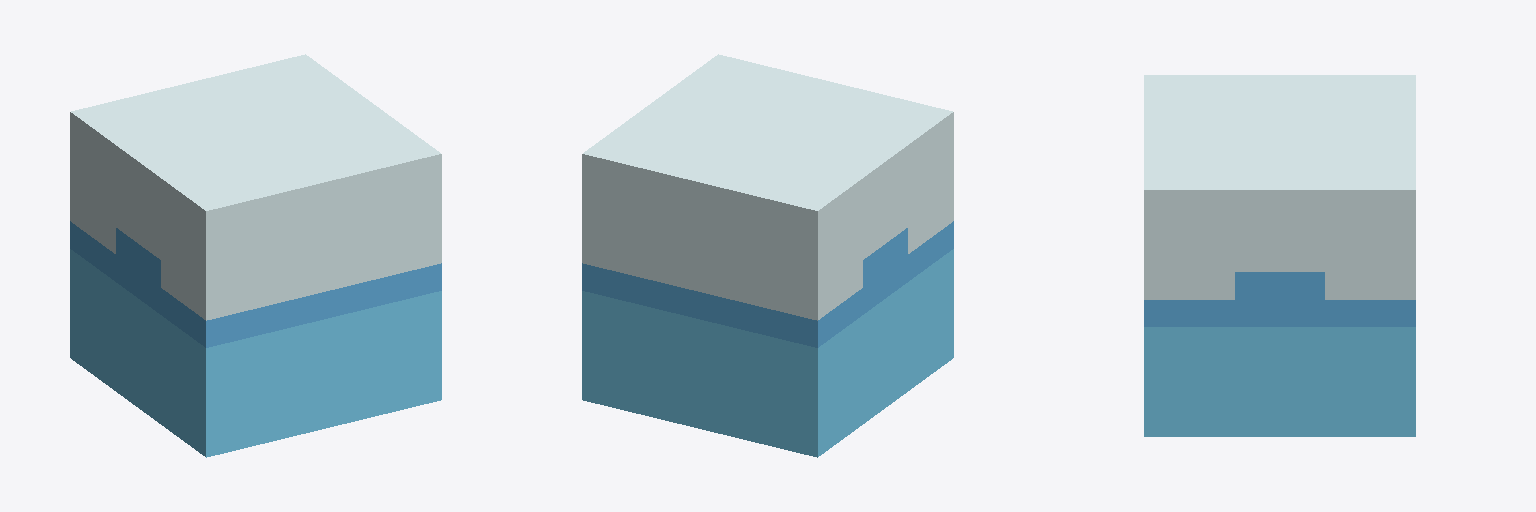
3 views of the same model, side by side, from view 1: azimuth 30°, elevation 25°; view 2: azimuth 150°, elevation 25°; view 3: azimuth 270°, elevation 25° (orthographic).
Visible parts, largest first — view 1: prize_ball; view 2: prize_ball; view 3: prize_ball.
Boxes of the visible parts, <box> form: prize_ball: <box>70,54,441,457</box>; prize_ball: <box>582,54,953,457</box>; prize_ball: <box>1144,75,1415,436</box>.
Size of the model in its own units: 1.44 by 1.44 by 1.44.
1 materials, 1 textured.